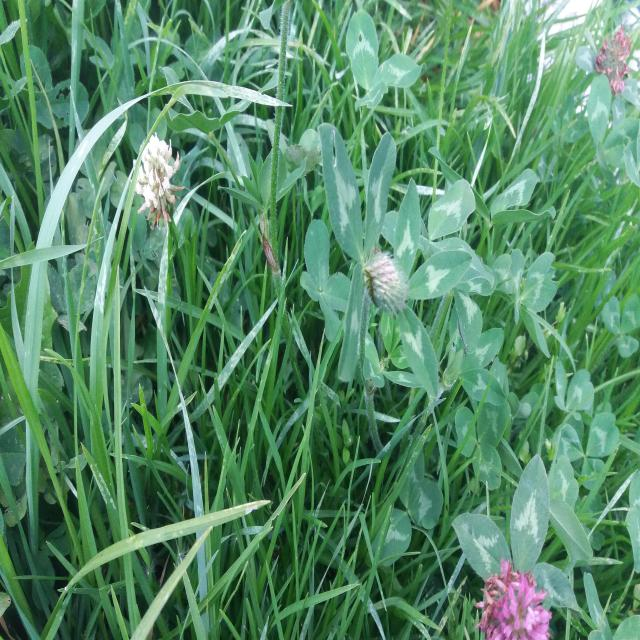Four Leaf Clover: (301, 219, 351, 341)
